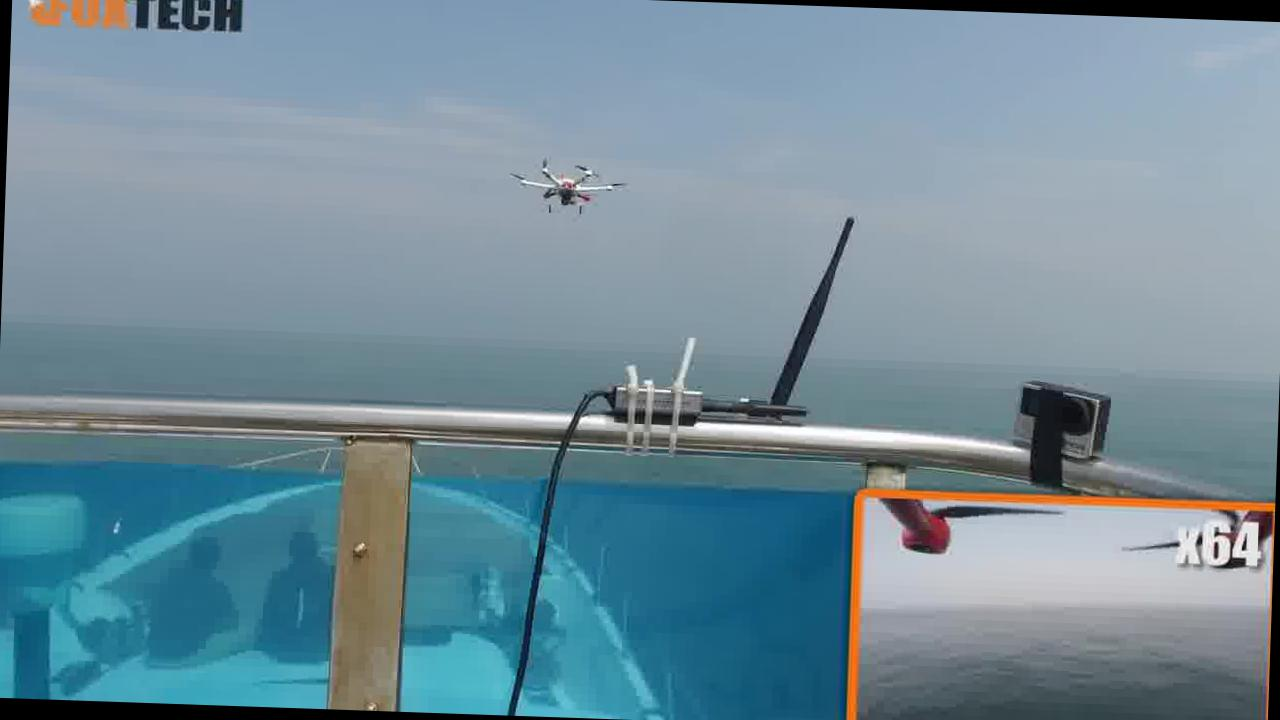drone: (498, 149, 632, 231)
